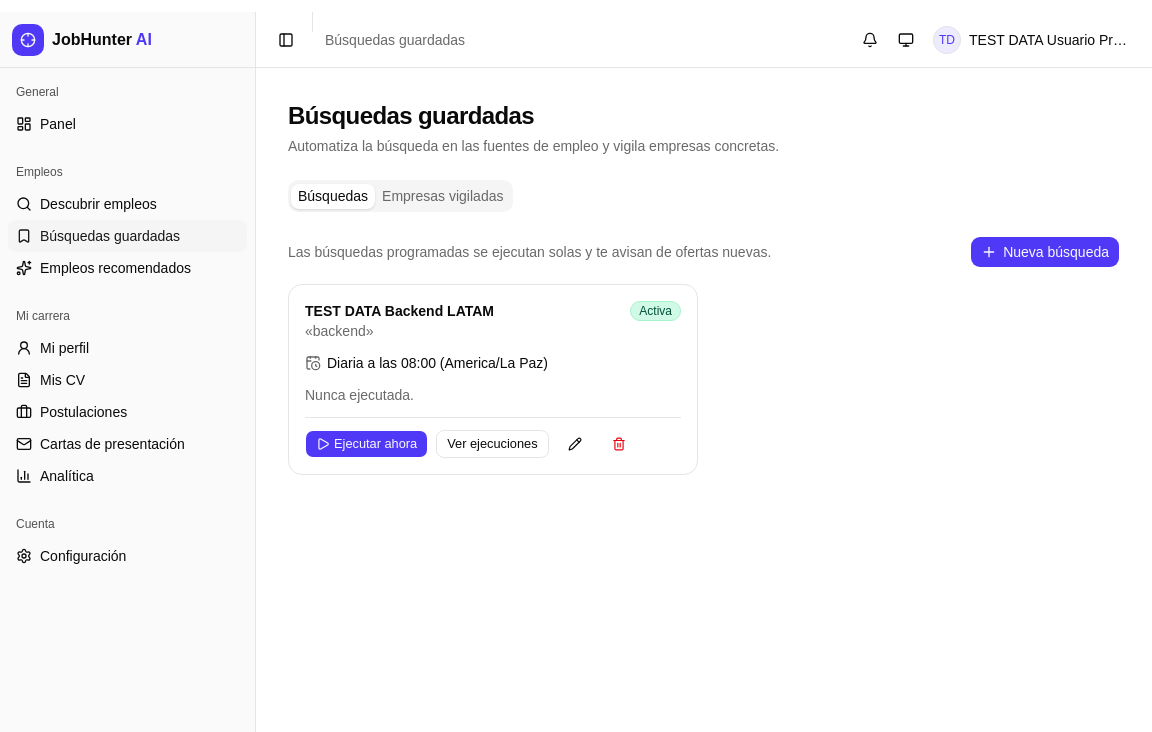
Test: Búsquedas guardadas › explains ALREADY_RUNNING
Click the button "Ejecutar ahora". click: [367, 444]
box: [305,430,428,458]
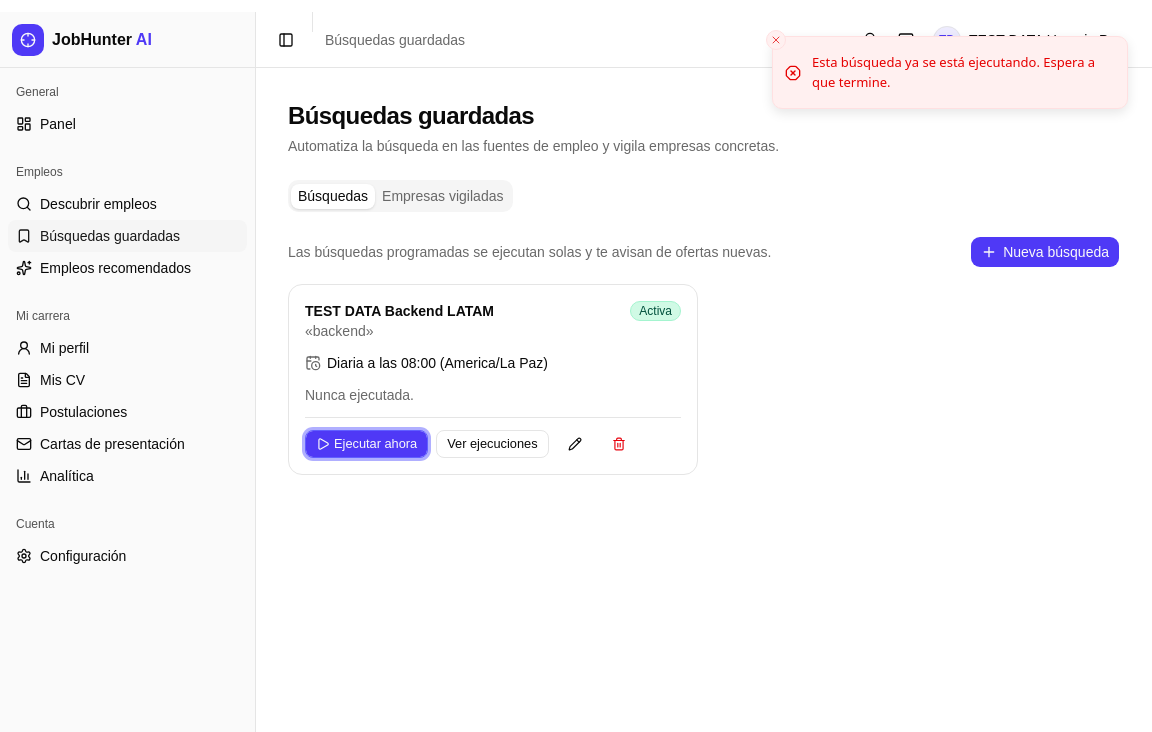
Expected: the text "Esta búsqueda ya se está ejecutando. Espera a que termine." is shown, [812,53,1111,92]
